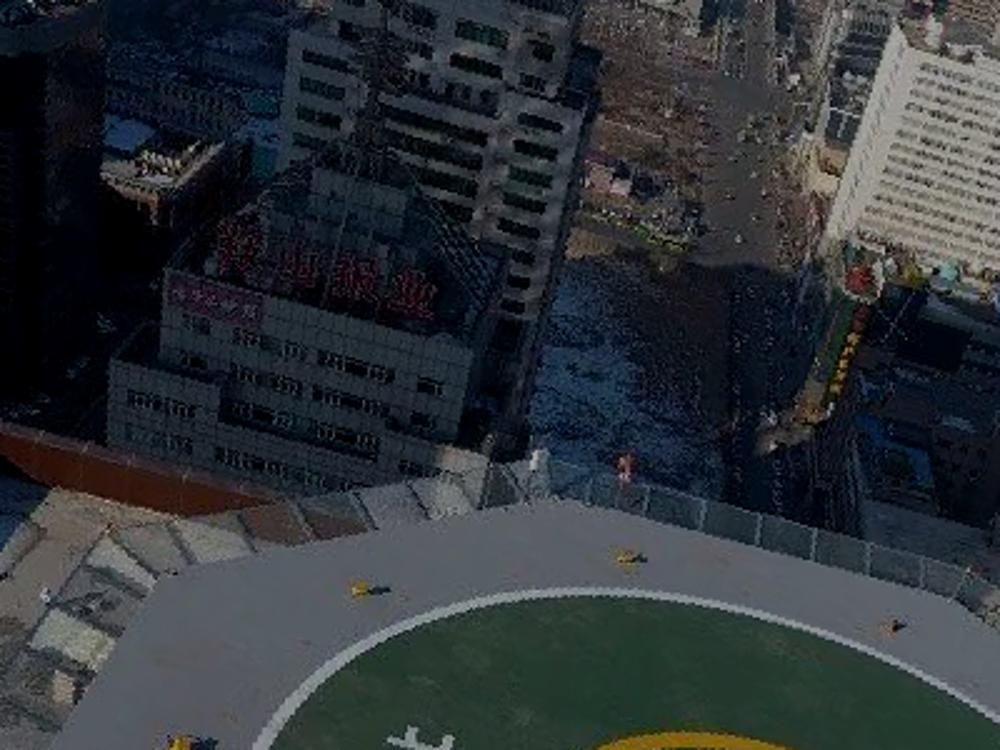Apron: (538, 710, 925, 750)
